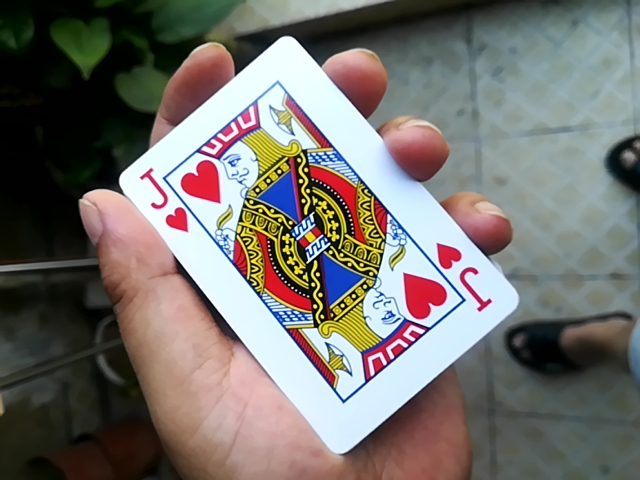hx j: (95, 38, 507, 456)
